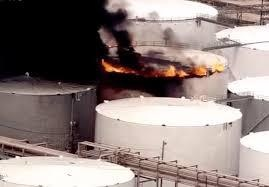fire: (97, 59, 219, 80)
